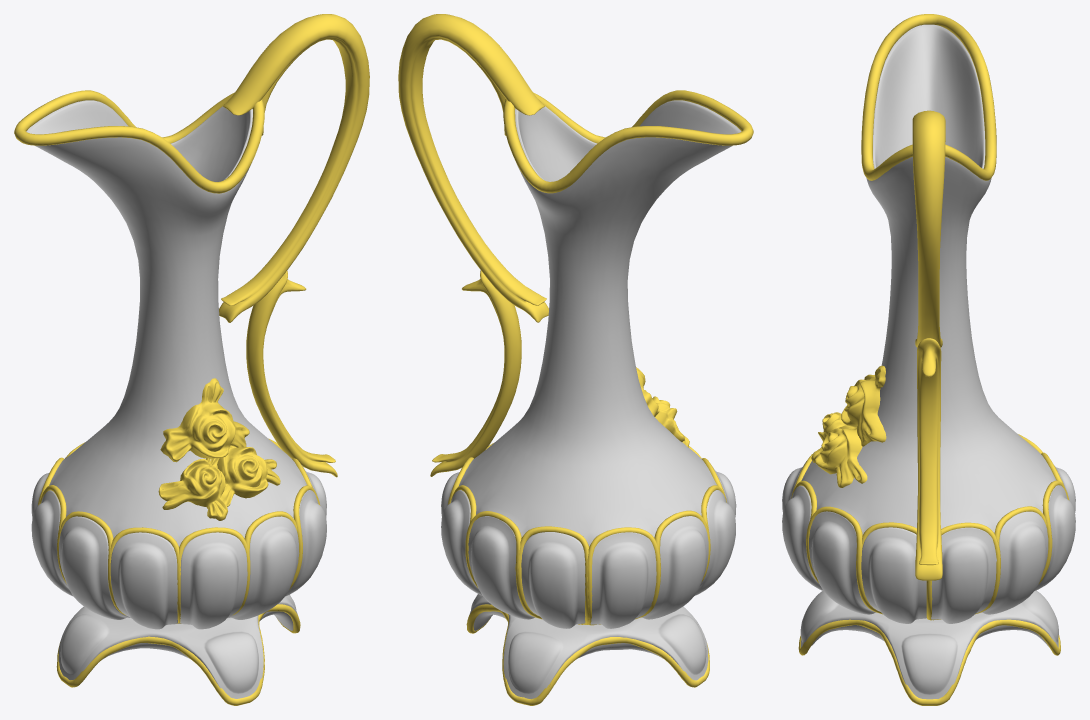
3 views of the same model, side by side, from view 1: azimuth 30°, elevation 25°; view 2: azimuth 150°, elevation 25°; view 3: azimuth 270°, elevation 25° (orthographic).
Parts seen in each view (by area): view 1: Vase; view 2: Vase; view 3: Vase.
Boxes of the visible parts, bbox=[...] form: Vase: bbox=[14, 14, 369, 705]; Vase: bbox=[398, 14, 753, 705]; Vase: bbox=[782, 14, 1075, 705].
Size of the model in its own units: 1000 by 1655 by 730.
